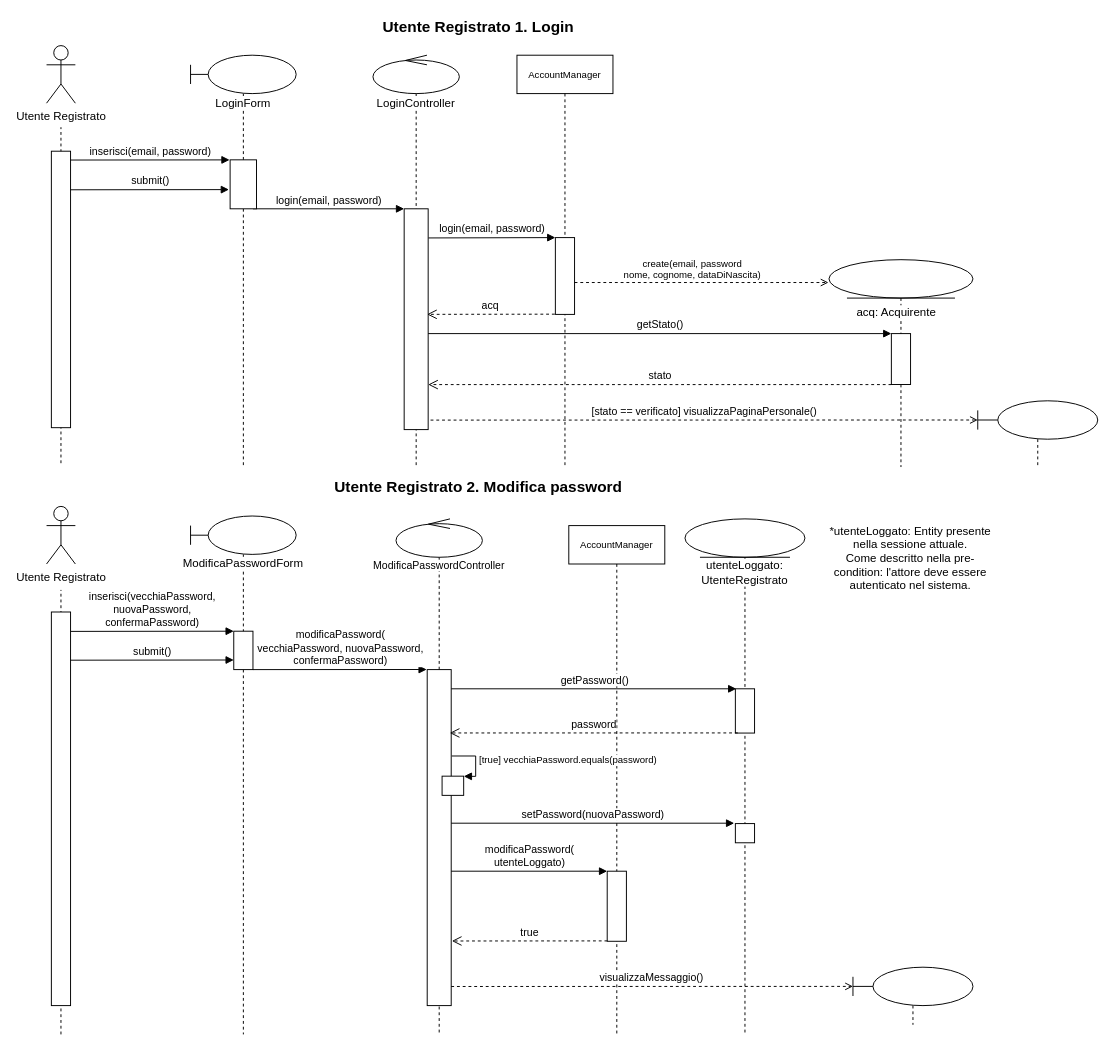
This 1115x1052 diagram has some shape labels left out. Here are the shapes that lost their labels. From the top down, the centre of each, then its label:
At (1037,434): "PaginaPersonale".
At (912,995): "ConfermaMsg".
